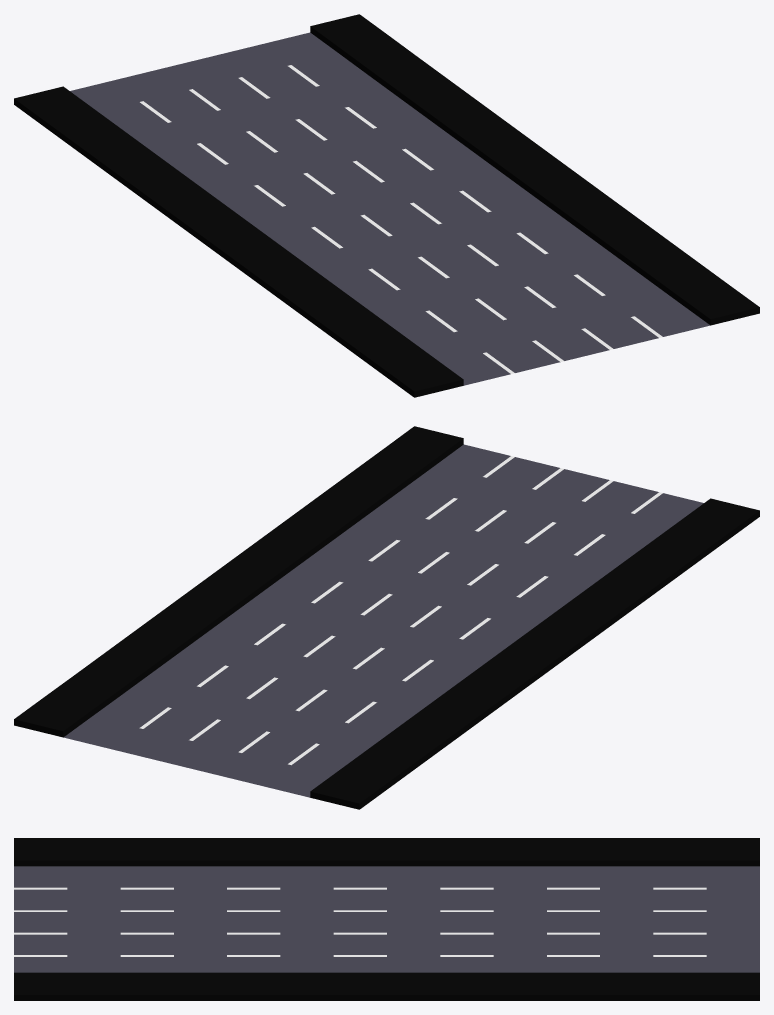
Rendered from RoadOnly.fbx.
3 views of the same model, one above another, from view 1: azimuth 30°, elevation 25°; view 2: azimuth 150°, elevation 25°; view 3: azimuth 270°, elevation 25° (orthographic). The views are drawn at different scales.
Visible parts, largest first — view 1: LoweredRoad; view 2: LoweredRoad; view 3: LoweredRoad.
Boxes of the visible parts, box(x1,y1,x2,y2) form: LoweredRoad: box(14, 14, 759, 397); LoweredRoad: box(14, 426, 759, 809); LoweredRoad: box(14, 838, 759, 1000).
Bounding box in the file's own units: 2633 × 45.28 × 5285.
